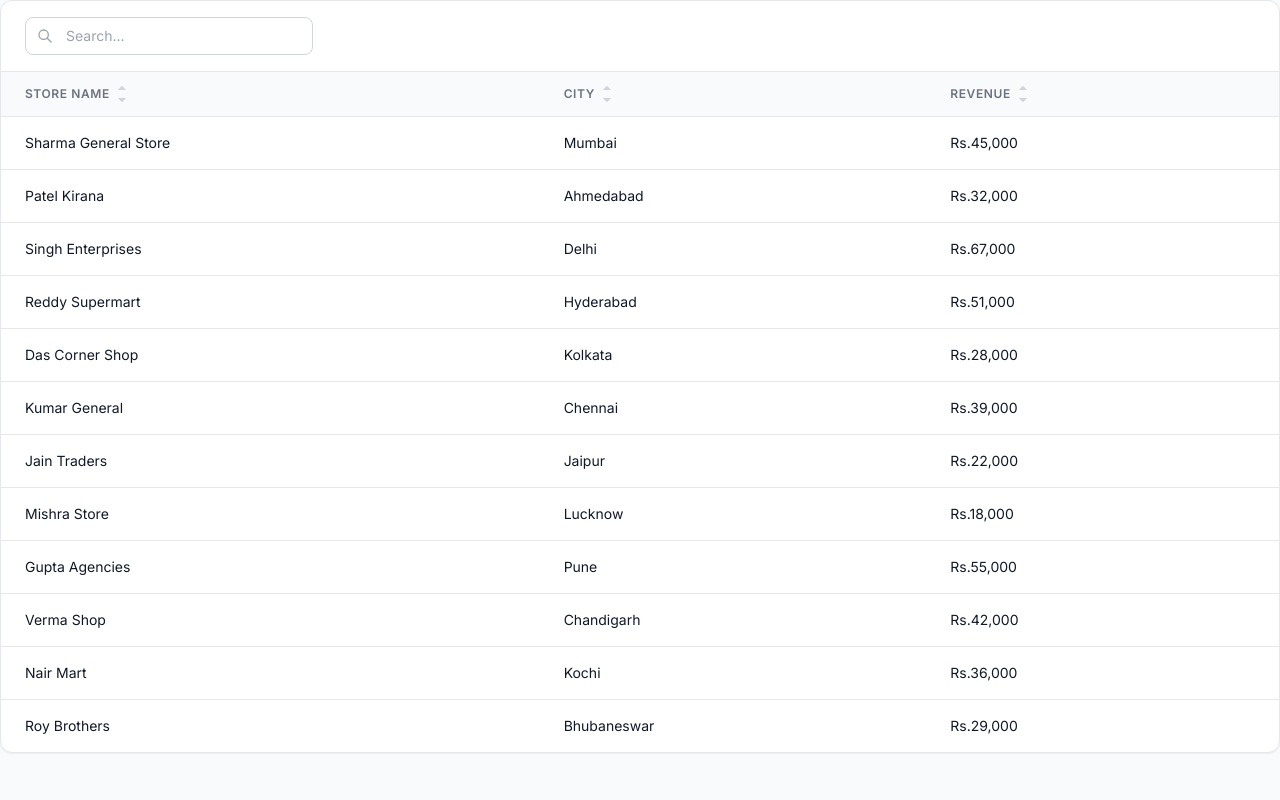
DataTable › Search › should filter rows based on search text
The width and height of the screenshot is (1280, 800).
In the field with placeholder "Search...": [169, 36] box top-left (25, 17), bottom-right (313, 55), type "Mumbai"
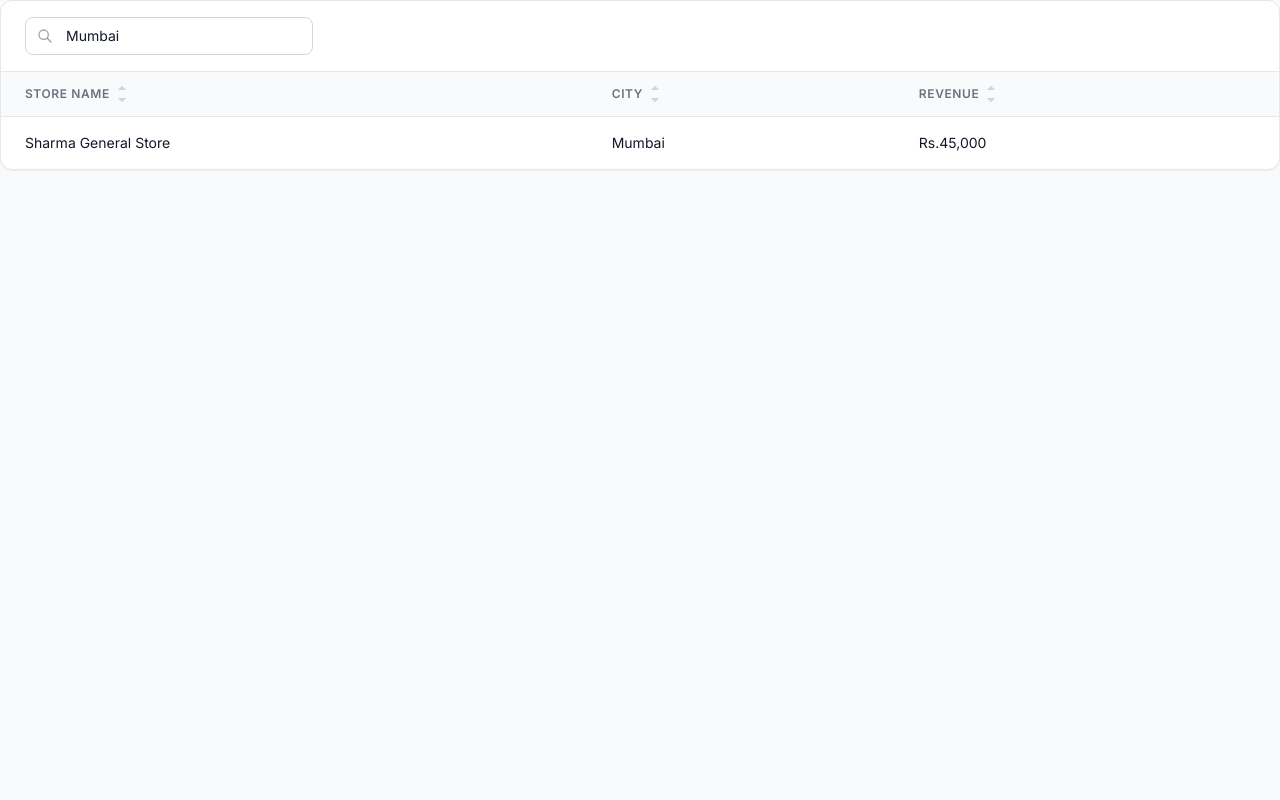
Check: the text "Sharma General Store" is shown, box top-left (1, 116), bottom-right (588, 169)
Check: the text "Patel Kirana" is gone
